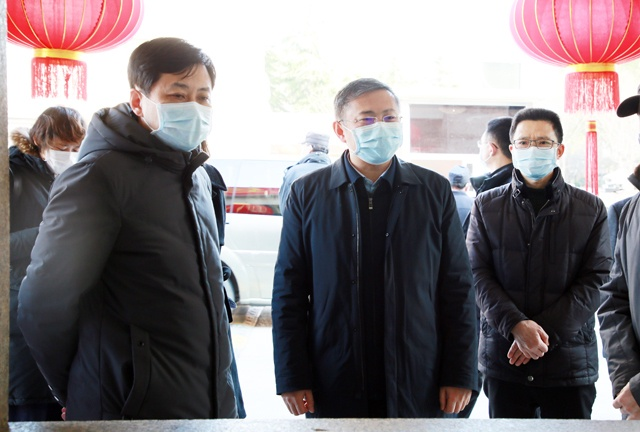correctlyWear: (129, 75, 215, 154), (333, 102, 402, 163), (507, 128, 566, 181), (39, 132, 80, 175), (476, 130, 505, 171)
